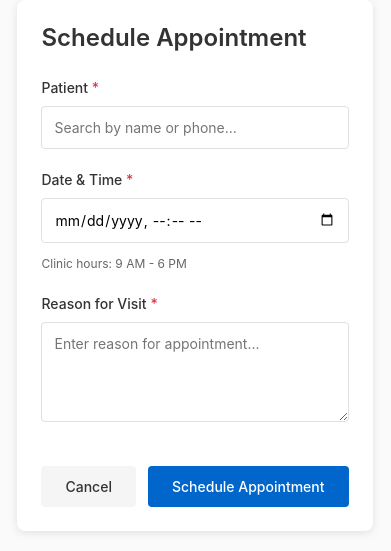
Test case: ScheduleAppointmentForm › Patient Selection › should select patient when clicked
In the field with placeholder "Search by name or phone...": (195, 127) [42,106,349,149], type "John"
Wait 300 ms
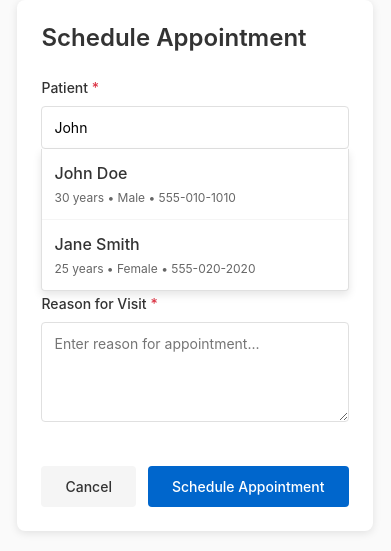
Result: the text "John Doe" is shown
Click the text "John Doe": click(91, 173) [54,163,128,183]
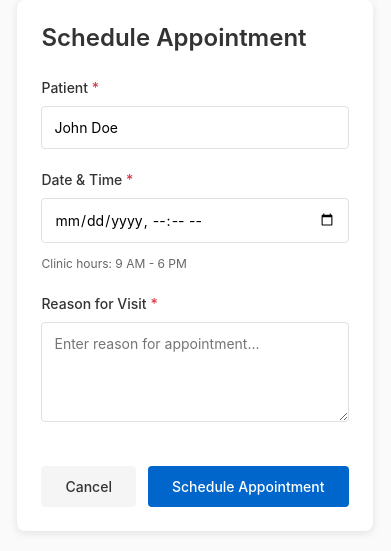
Result: the field below "Patient" holds "John Doe" at [42,106,349,149]
